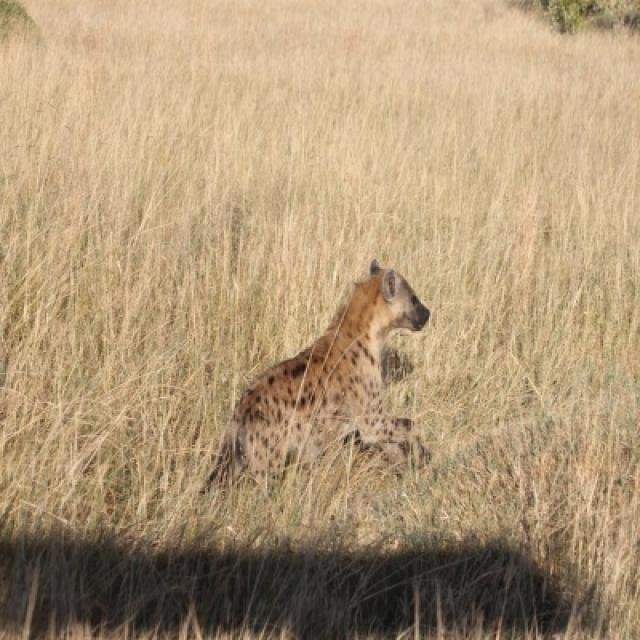hyena: (208, 267, 430, 486)
